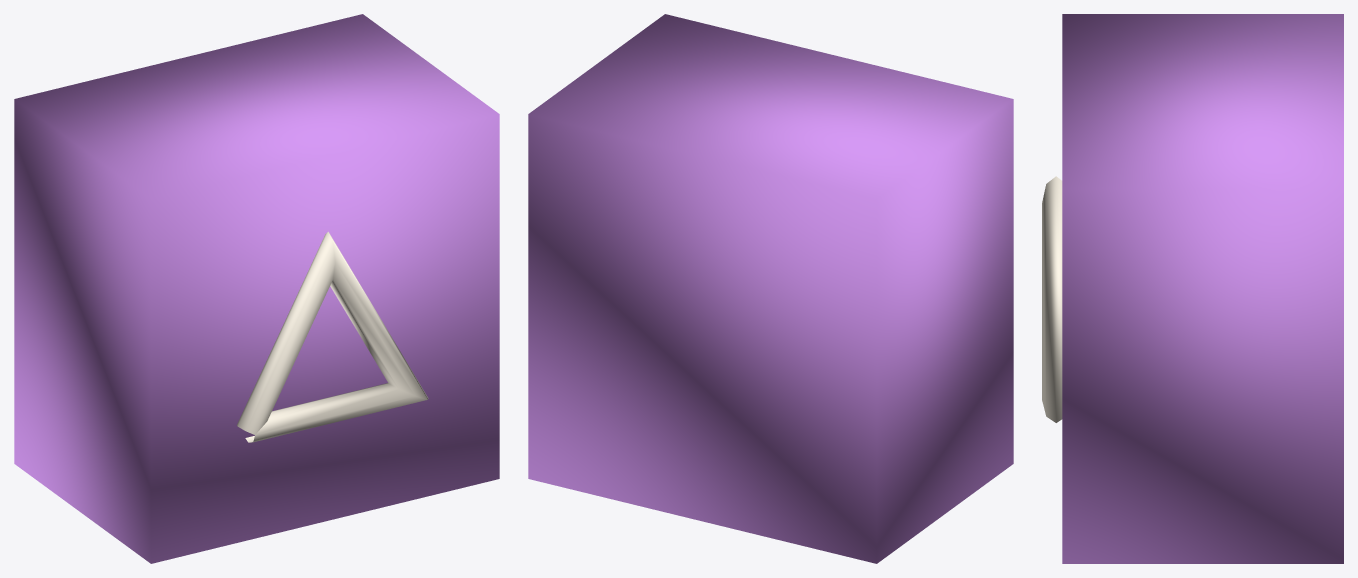
Rendered from block_violet.glb.
3 views of the same model, side by side, from view 1: azimuth 30°, elevation 25°; view 2: azimuth 150°, elevation 25°; view 3: azimuth 270°, elevation 25° (orthographic). The views are drawn at different scales.
Parts seen in each view (by area): view 1: violet, triangle_icon; view 2: violet; view 3: violet, triangle_icon.
Boxes of the visible parts, x1,y1,x2,y2 form: violet: (14, 14, 499, 563); triangle_icon: (237, 231, 428, 442); violet: (528, 14, 1013, 563); violet: (1062, 14, 1343, 563); triangle_icon: (1042, 176, 1062, 422).
Size of the model in its own units: 1 by 1 by 0.729.
